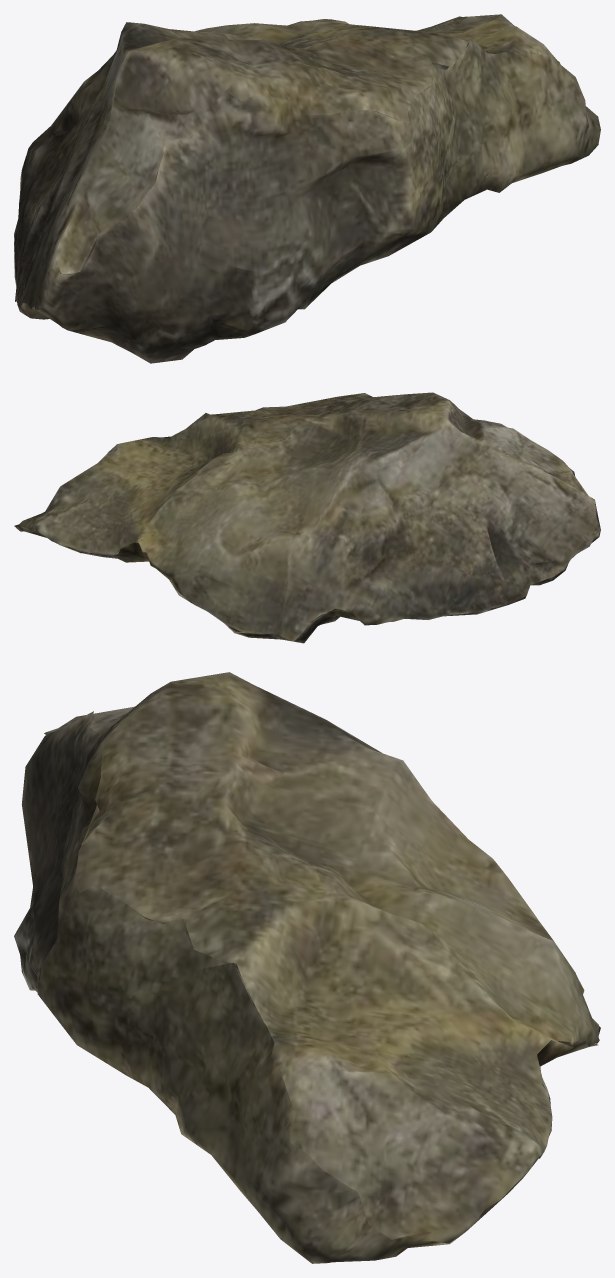
File: rock_moss_set_02_2.glb
The picture shows the model from 3 angles, top to bottom: view 1: azimuth 30°, elevation 25°; view 2: azimuth 150°, elevation 25°; view 3: azimuth 270°, elevation 25°; orthographic projection. The views are drawn at different scales.
Visible parts, largest first — view 1: rock_moss_set_02_rock09; view 2: rock_moss_set_02_rock09; view 3: rock_moss_set_02_rock09.
Boxes of the visible parts, x1,y1,x2,y2 form: rock_moss_set_02_rock09: (14, 14, 600, 363); rock_moss_set_02_rock09: (14, 392, 600, 643); rock_moss_set_02_rock09: (14, 672, 600, 1263).
Bounding box in the file's own units: 1.63 × 0.6079 × 1.02.
1 material, 1 textured.
